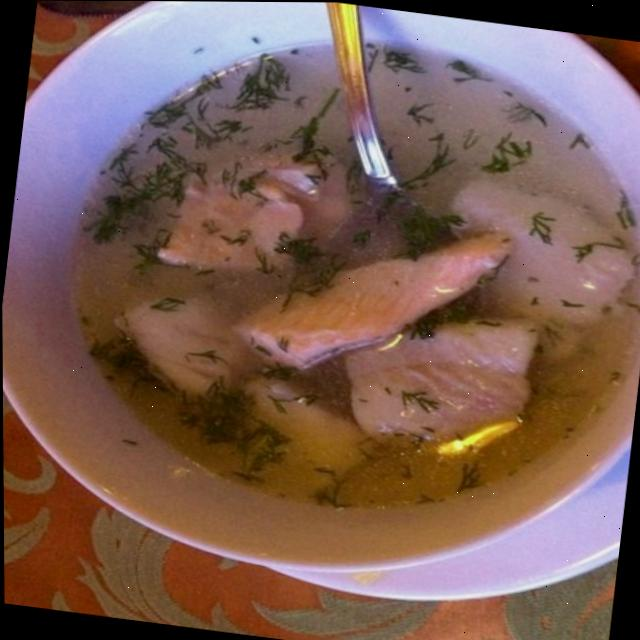汤锅炖物: (18, 0, 640, 587)
